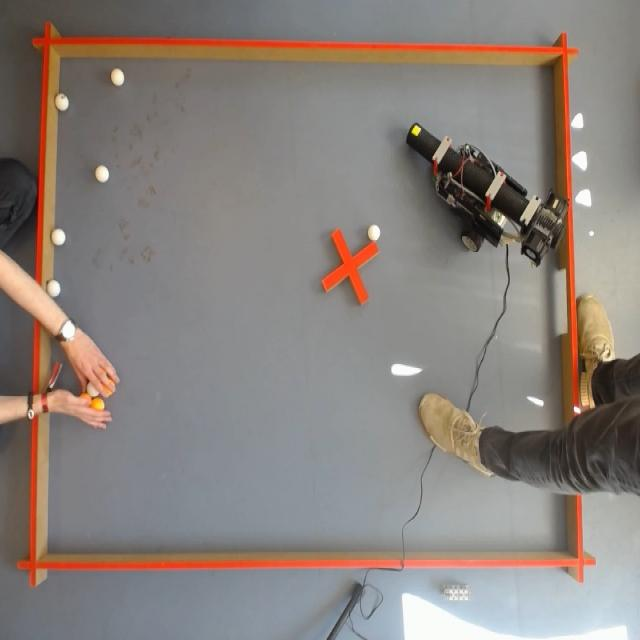orange: (92, 397, 104, 410)
robot: (406, 123, 568, 268)
robot-front: (406, 124, 437, 159)
white: (92, 163, 111, 186), (109, 66, 126, 91), (54, 92, 71, 116), (50, 227, 68, 249), (48, 280, 61, 297), (368, 226, 381, 240), (87, 382, 99, 397)
